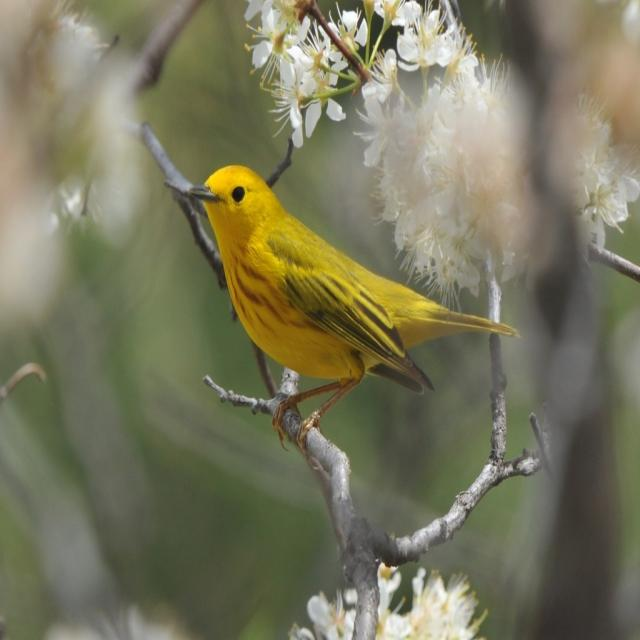bird: (162, 154, 522, 434)
